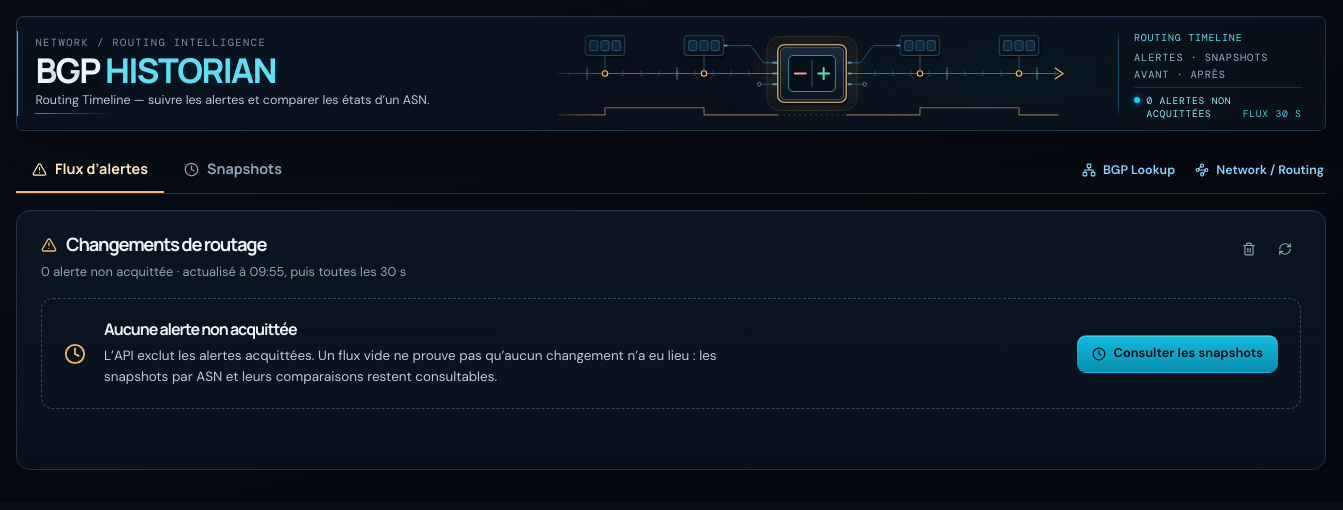
BGP Historian presentation and navigation › distinguishes an empty alert feed from an ASN with no snapshots
Expected: the heading "Aucune alerte non acquittée" is shown, [104,318,296,340]
Expected: the text "Un flux vide ne prouve pas qu’aucun changement n’a eu lieu" is shown, [104,347,717,385]
Click the button "Consulter les snapshots".
click(1177, 354)  # box [1076,335,1278,373]
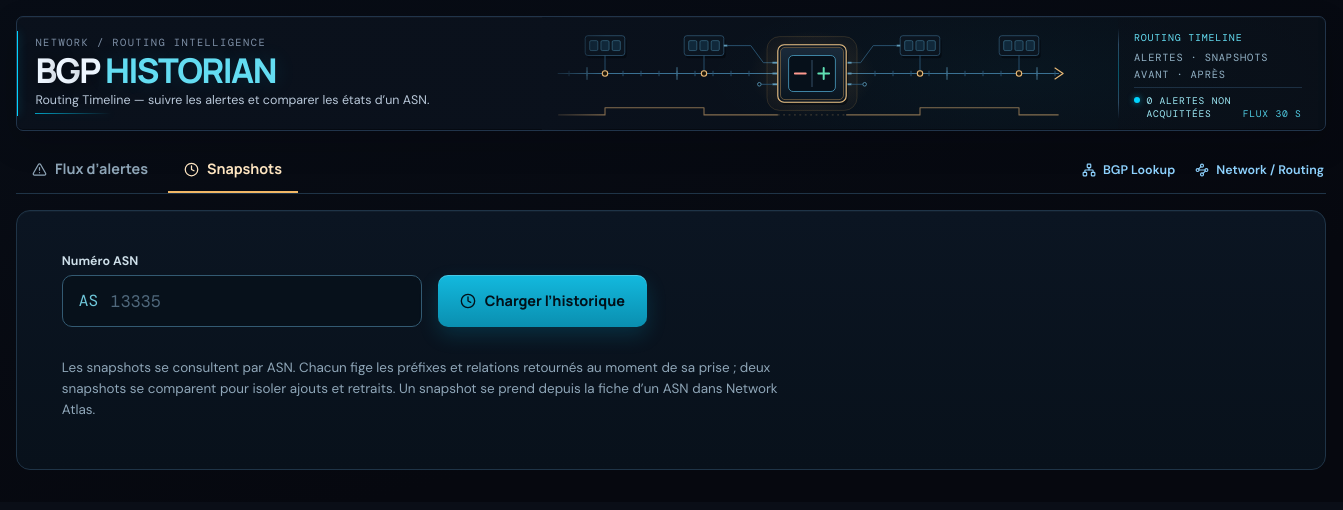
Type "AS64496" into the field labelled "Numéro ASN".
click(257, 301); type("AS64496")  # box [104,276,409,326]
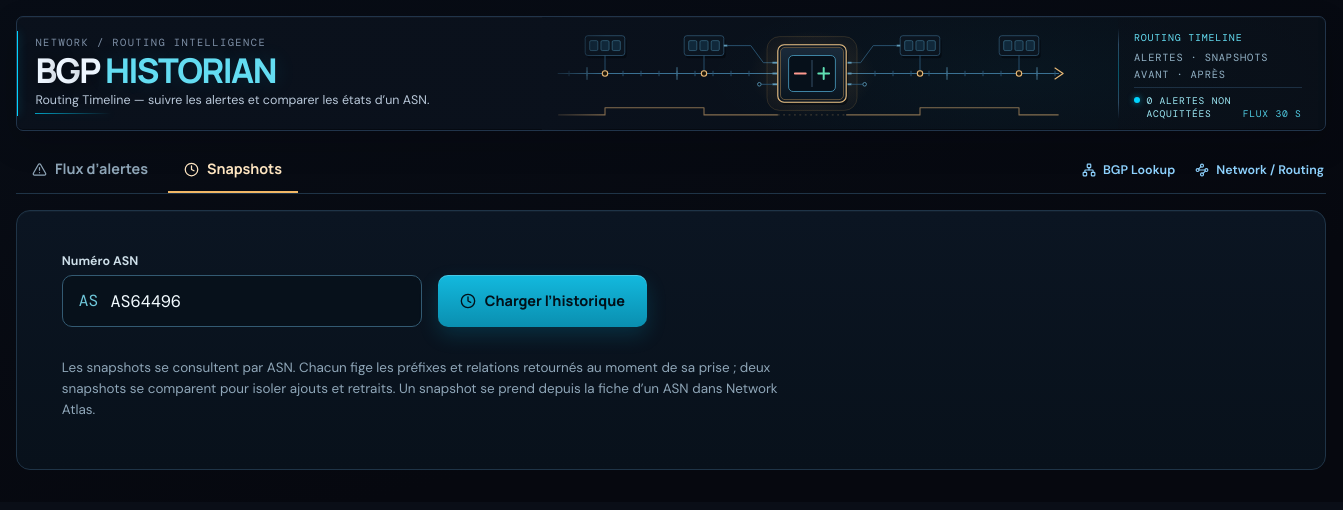
Click the button "Charger l’historique".
click(542, 301)  # box [438,275,647,327]
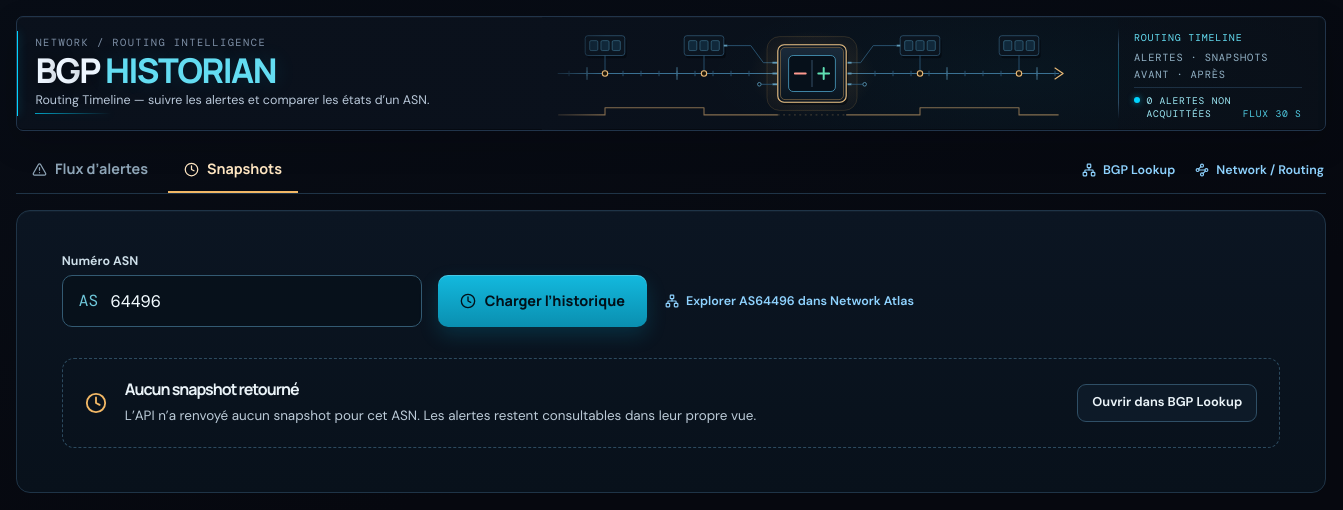
Expected: the heading "Aucun snapshot retourné" is shown, [125,378,298,400]
Expected: the text "L’API n’a renvoyé aucun snapshot pour cet ASN" is shown, [125,407,756,424]
